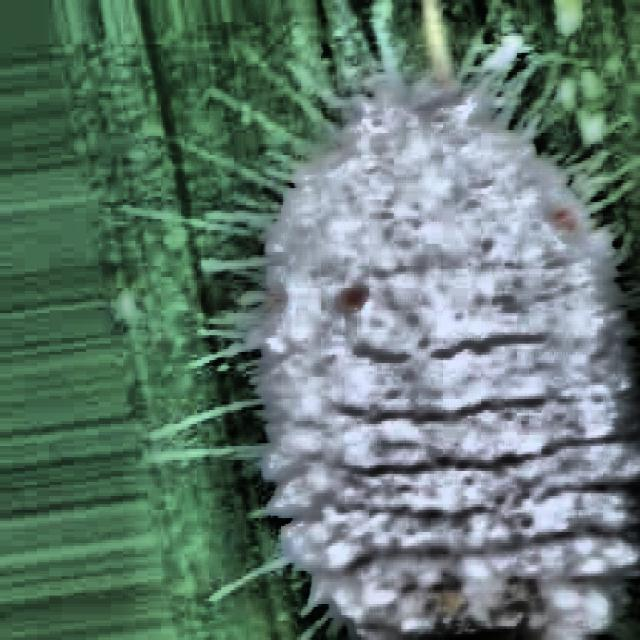Mealy-bug: (237, 36, 640, 637)
